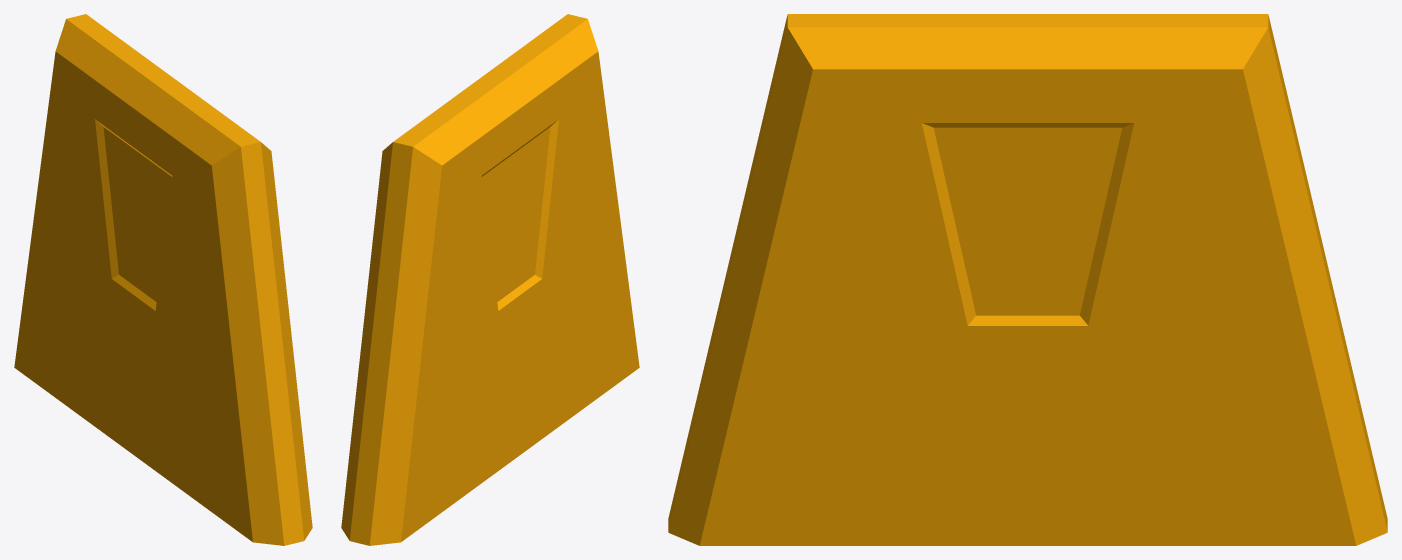
File: LowerDoor.FBX
The picture shows the model from 3 angles, left to right: view 1: azimuth 30°, elevation 25°; view 2: azimuth 150°, elevation 25°; view 3: azimuth 270°, elevation 25°; orthographic projection. The views are drawn at different scales.
Parts seen in each view (by area): view 1: Object010; view 2: Object010; view 3: Object010.
Part boxes in pixels (x1,y1,x2,y2): Object010: (14,14,312,545); Object010: (341,14,639,545); Object010: (668,14,1387,545).
Size of the model in its own units: 0.2947 by 1.73 by 2.24.
